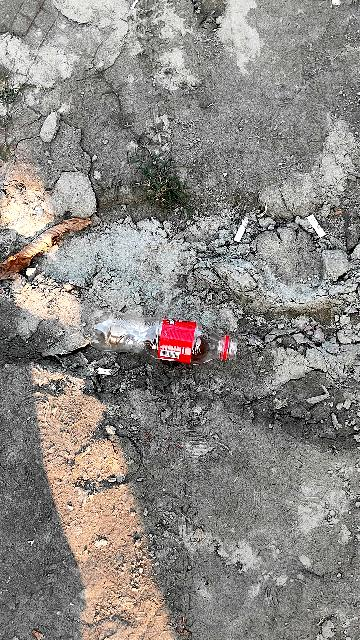bottle: (81, 301, 256, 367)
